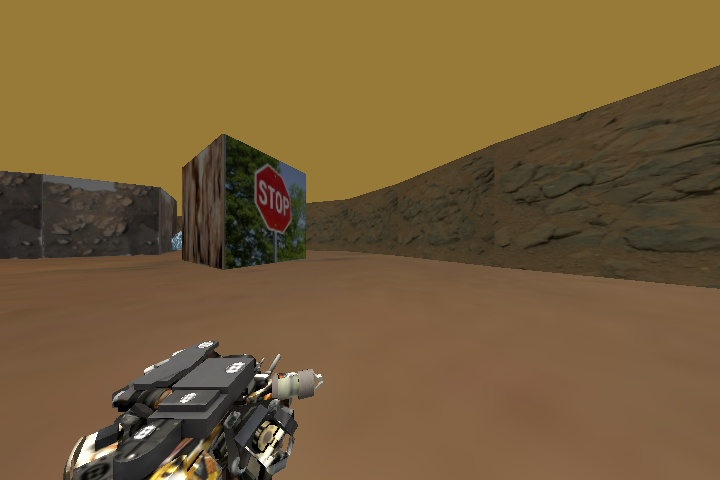sign: (254, 165, 292, 232)
